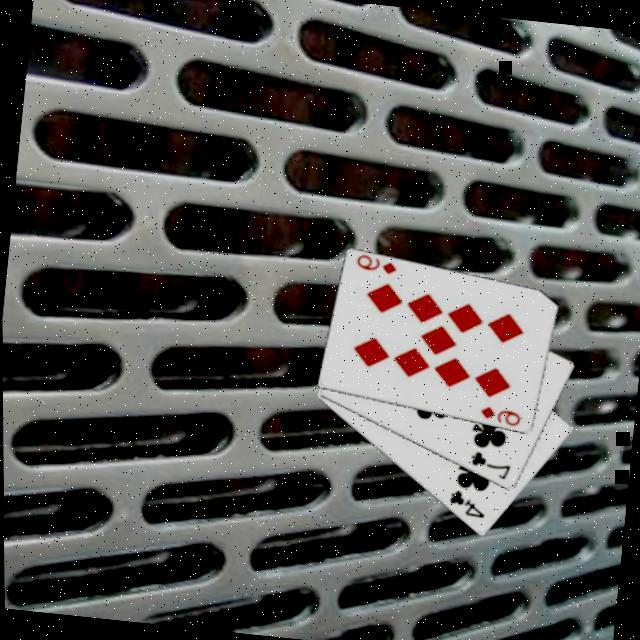4C: (444, 488, 490, 524)
7C: (466, 449, 514, 486)
9D: (476, 404, 524, 432), (353, 253, 401, 280)
